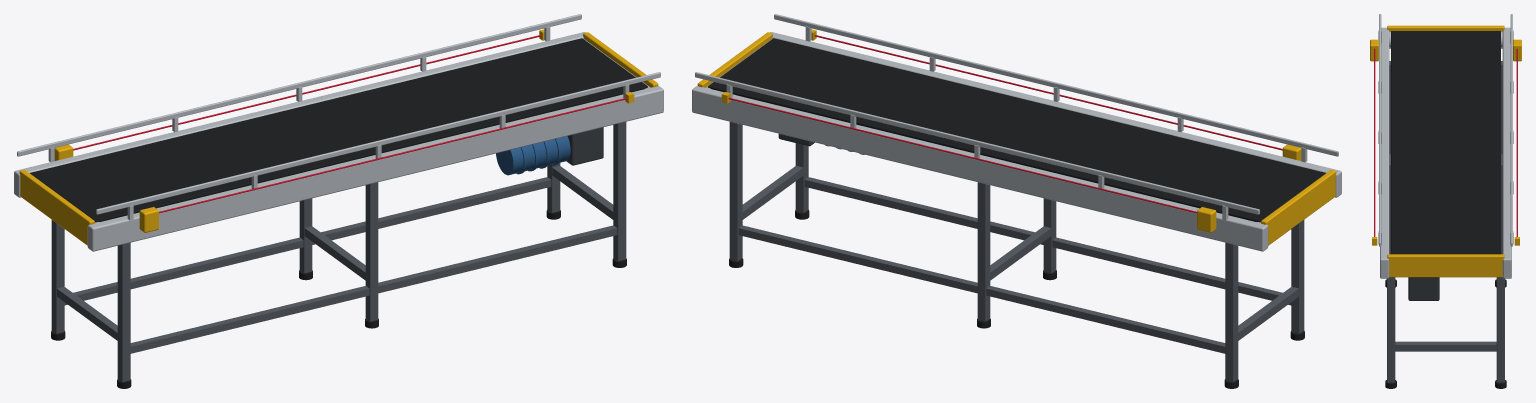
File: belt-conveyor-3m.glb
3 views of the same model, side by side, from view 1: azimuth 30°, elevation 25°; view 2: azimuth 150°, elevation 25°; view 3: azimuth 270°, elevation 25° (orthographic). The views are drawn at different scales.
Visible parts, largest first — view 1: rubber_black, aluminium, steel_dark, safety_yellow, estop_red, motor_blue, paint_anthracite; view 2: rubber_black, aluminium, steel_dark, safety_yellow, estop_red; view 3: rubber_black, aluminium, safety_yellow, steel_dark, paint_anthracite, estop_red.
Part boxes in pixels (bbox=[...]): rubber_black: bbox=[30, 38, 647, 388]; aluminium: bbox=[14, 14, 663, 251]; steel_dark: bbox=[51, 122, 626, 382]; safety_yellow: bbox=[19, 29, 658, 245]; estop_red: bbox=[73, 35, 627, 213]; motor_blue: bbox=[496, 136, 570, 175]; paint_anthracite: bbox=[566, 127, 603, 165]; rubber_black: bbox=[708, 38, 1325, 388]; aluminium: bbox=[692, 14, 1341, 251]; steel_dark: bbox=[729, 122, 1304, 382]; safety_yellow: bbox=[697, 29, 1336, 245]; estop_red: bbox=[728, 35, 1282, 213]; rubber_black: bbox=[1385, 31, 1506, 388]; aluminium: bbox=[1378, 14, 1513, 278]; safety_yellow: bbox=[1370, 25, 1521, 277]; steel_dark: bbox=[1387, 61, 1504, 382]; paint_anthracite: bbox=[1408, 277, 1439, 300]; estop_red: bbox=[1374, 49, 1517, 236].
Size of the model in its own units: 3 by 0.95 by 0.83.
